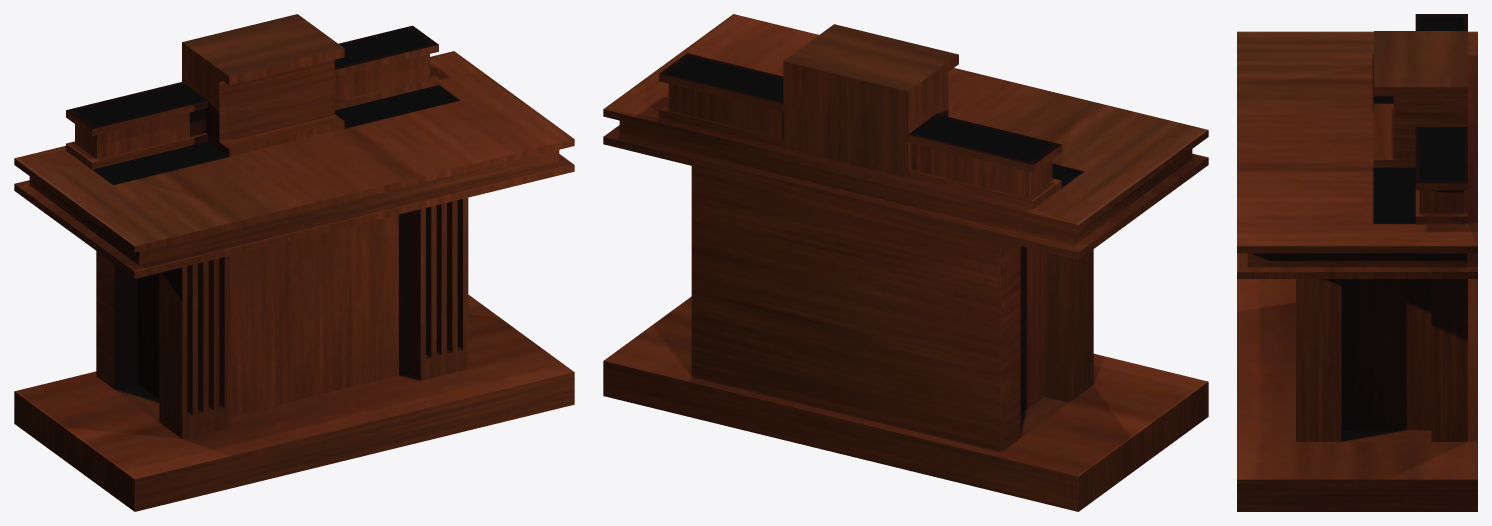
File: altar01_herbert.fbx
3 views of the same model, side by side, from view 1: azimuth 30°, elevation 25°; view 2: azimuth 150°, elevation 25°; view 3: azimuth 270°, elevation 25° (orthographic). The views are drawn at different scales.
Parts seen in each view (by area): view 1: Cylinder; view 2: Cylinder; view 3: Cylinder.
Boxes of the visible parts, <box> form: Cylinder: <box>14,14,574,511</box>; Cylinder: <box>603,14,1208,511</box>; Cylinder: <box>1237,14,1477,511</box>.
Bounding box in the file's own units: 777 × 584 × 369.
Materials: 1 (1 with a texture image).
